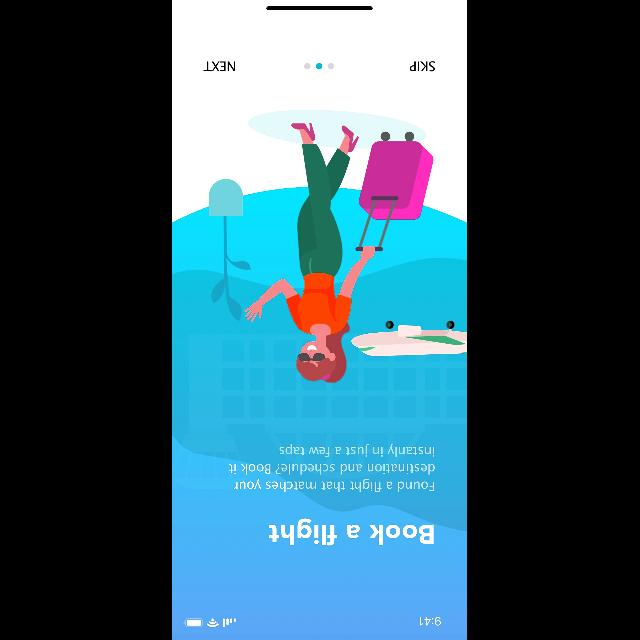image: (172, 110, 468, 386)
pageindicator: (305, 63, 335, 69)
text: (228, 444, 436, 492), (269, 518, 435, 546), (204, 60, 236, 72), (410, 60, 436, 72)
uppertaskbar: (184, 616, 442, 628)
